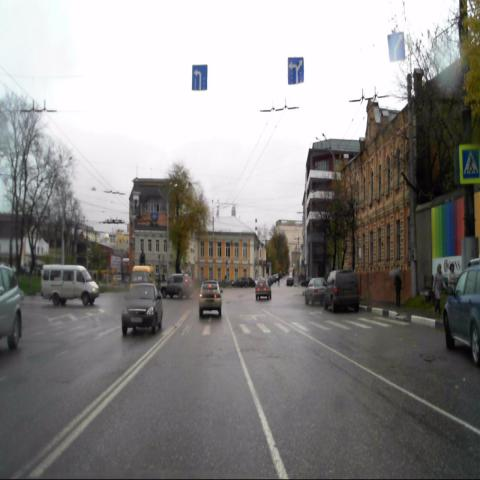5_15_2: (287, 57, 304, 84), (388, 33, 405, 60)
